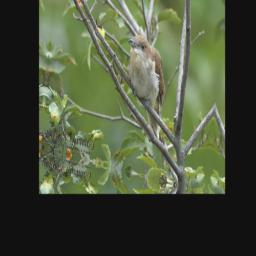Cuckoo: (119, 30, 171, 140)
